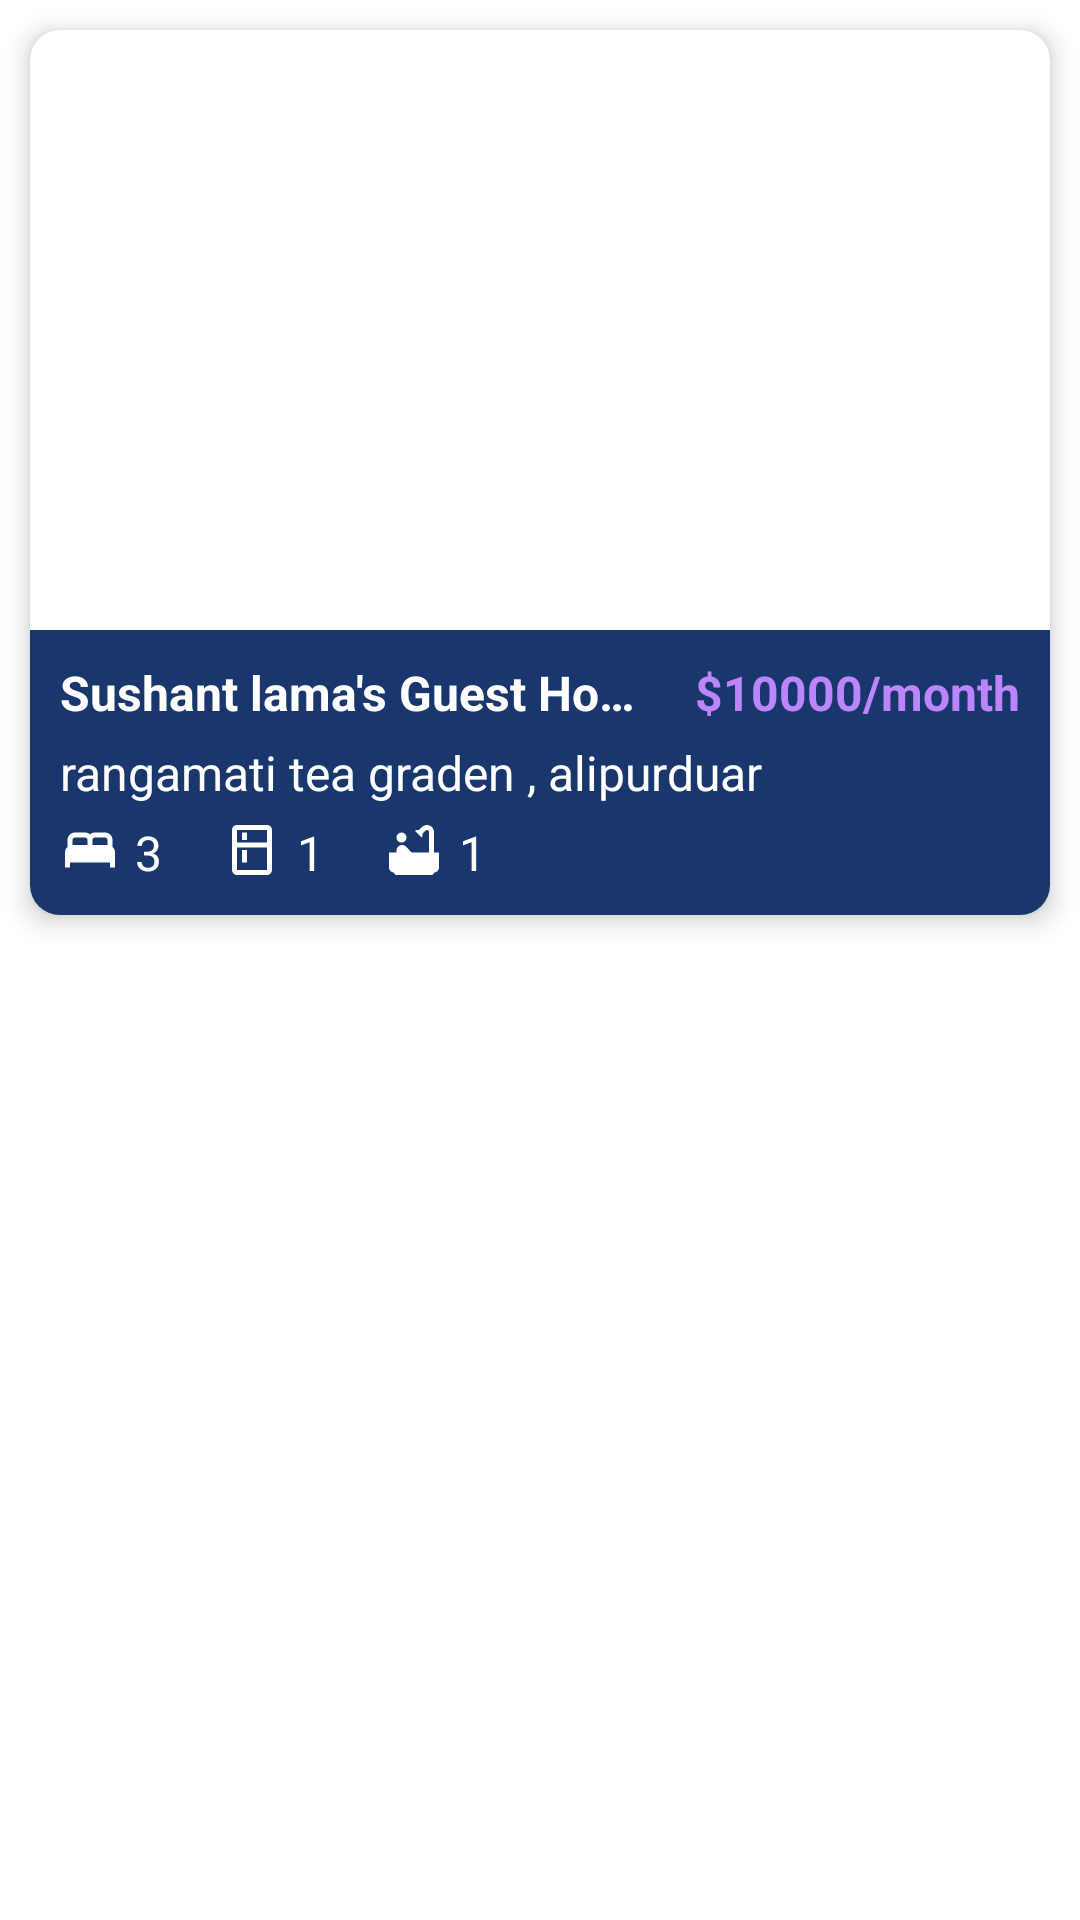

Where icons sit on this 1080x1920 app screen, as box(x1, y1, x2, y2):
bathtub: box(389, 825, 439, 875)
bed: box(65, 832, 115, 868)
kitchen: box(232, 825, 272, 875)
